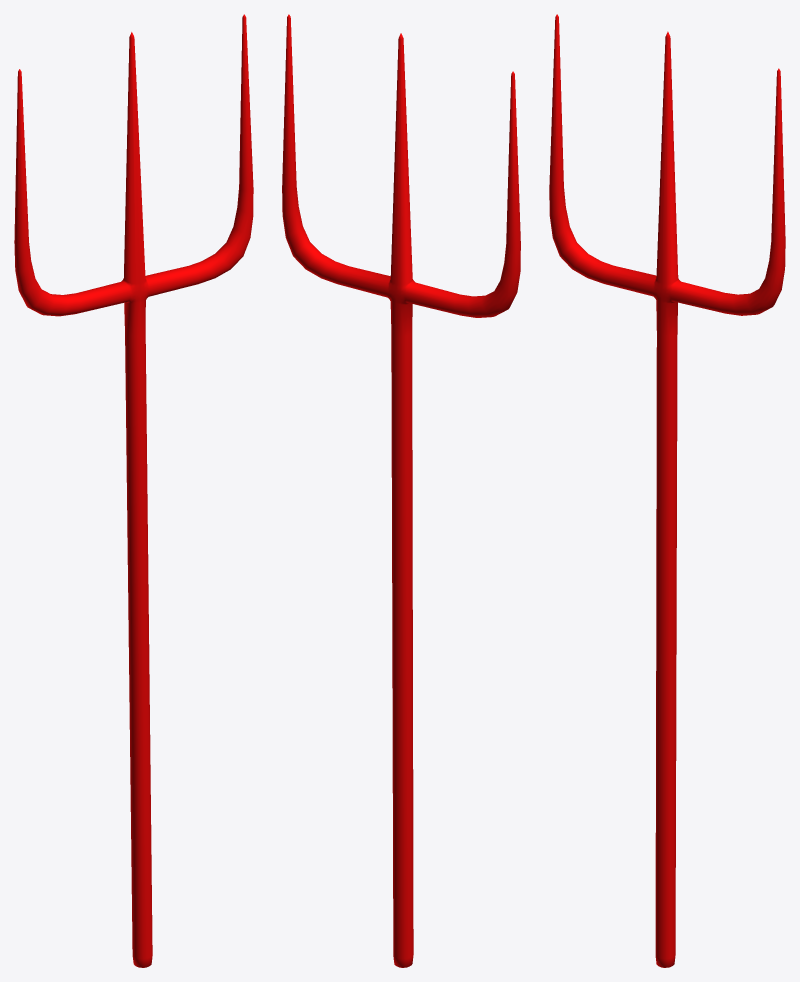
The model's file is Fork.FBX.
3 views of the same model, side by side, from view 1: azimuth 30°, elevation 25°; view 2: azimuth 150°, elevation 25°; view 3: azimuth 330°, elevation 25° (orthographic).
Parts seen in each view (by area): view 1: Object020; view 2: Object020; view 3: Object020.
Boxes of the visible parts, x1,y1,x2,y2 form: Object020: [14, 14, 253, 967]; Object020: [282, 14, 520, 967]; Object020: [549, 14, 785, 967].
Bounding box in the file's own units: 0.4761 × 1.8 × 0.0541.
